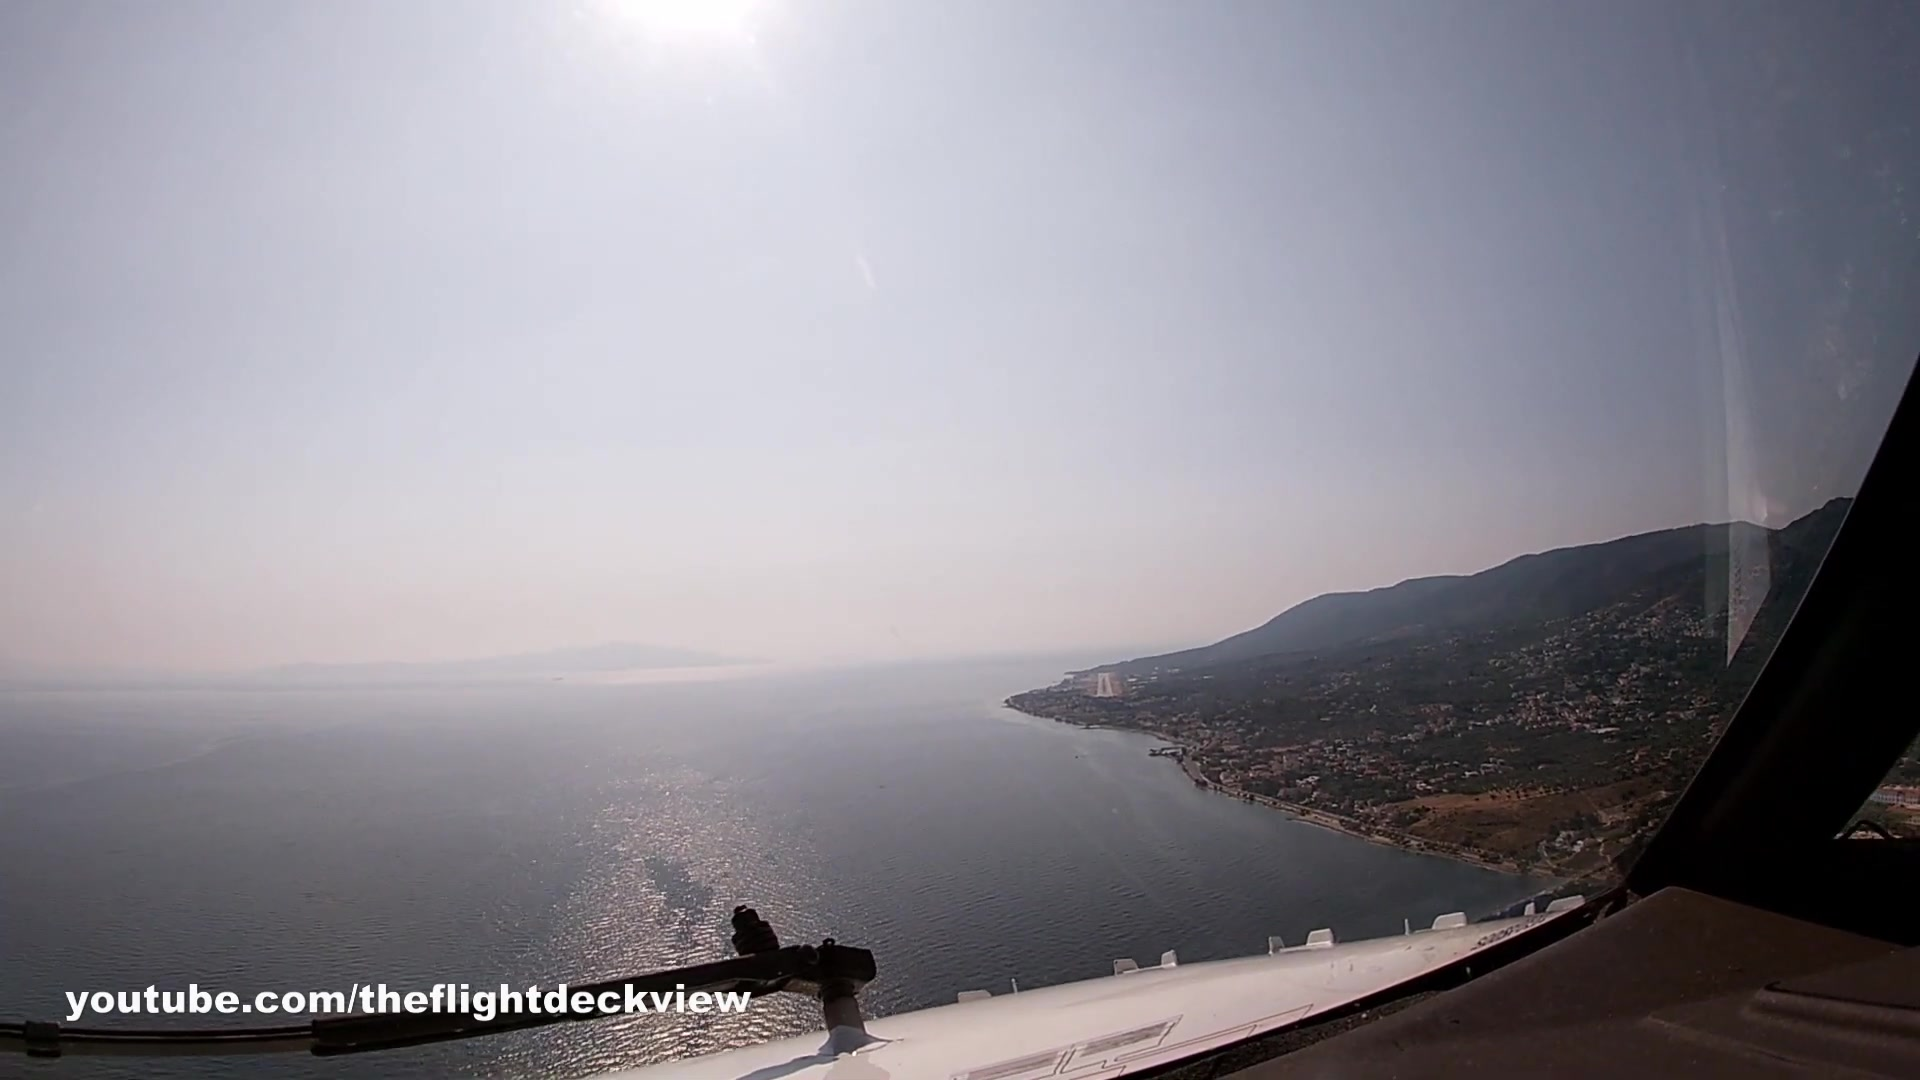runway: (1095, 670, 1114, 700)
